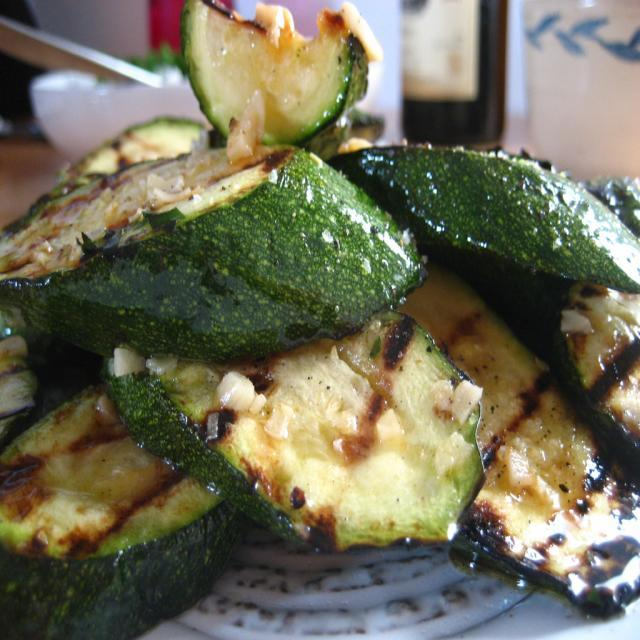Zucchini: (49, 56, 623, 601)
